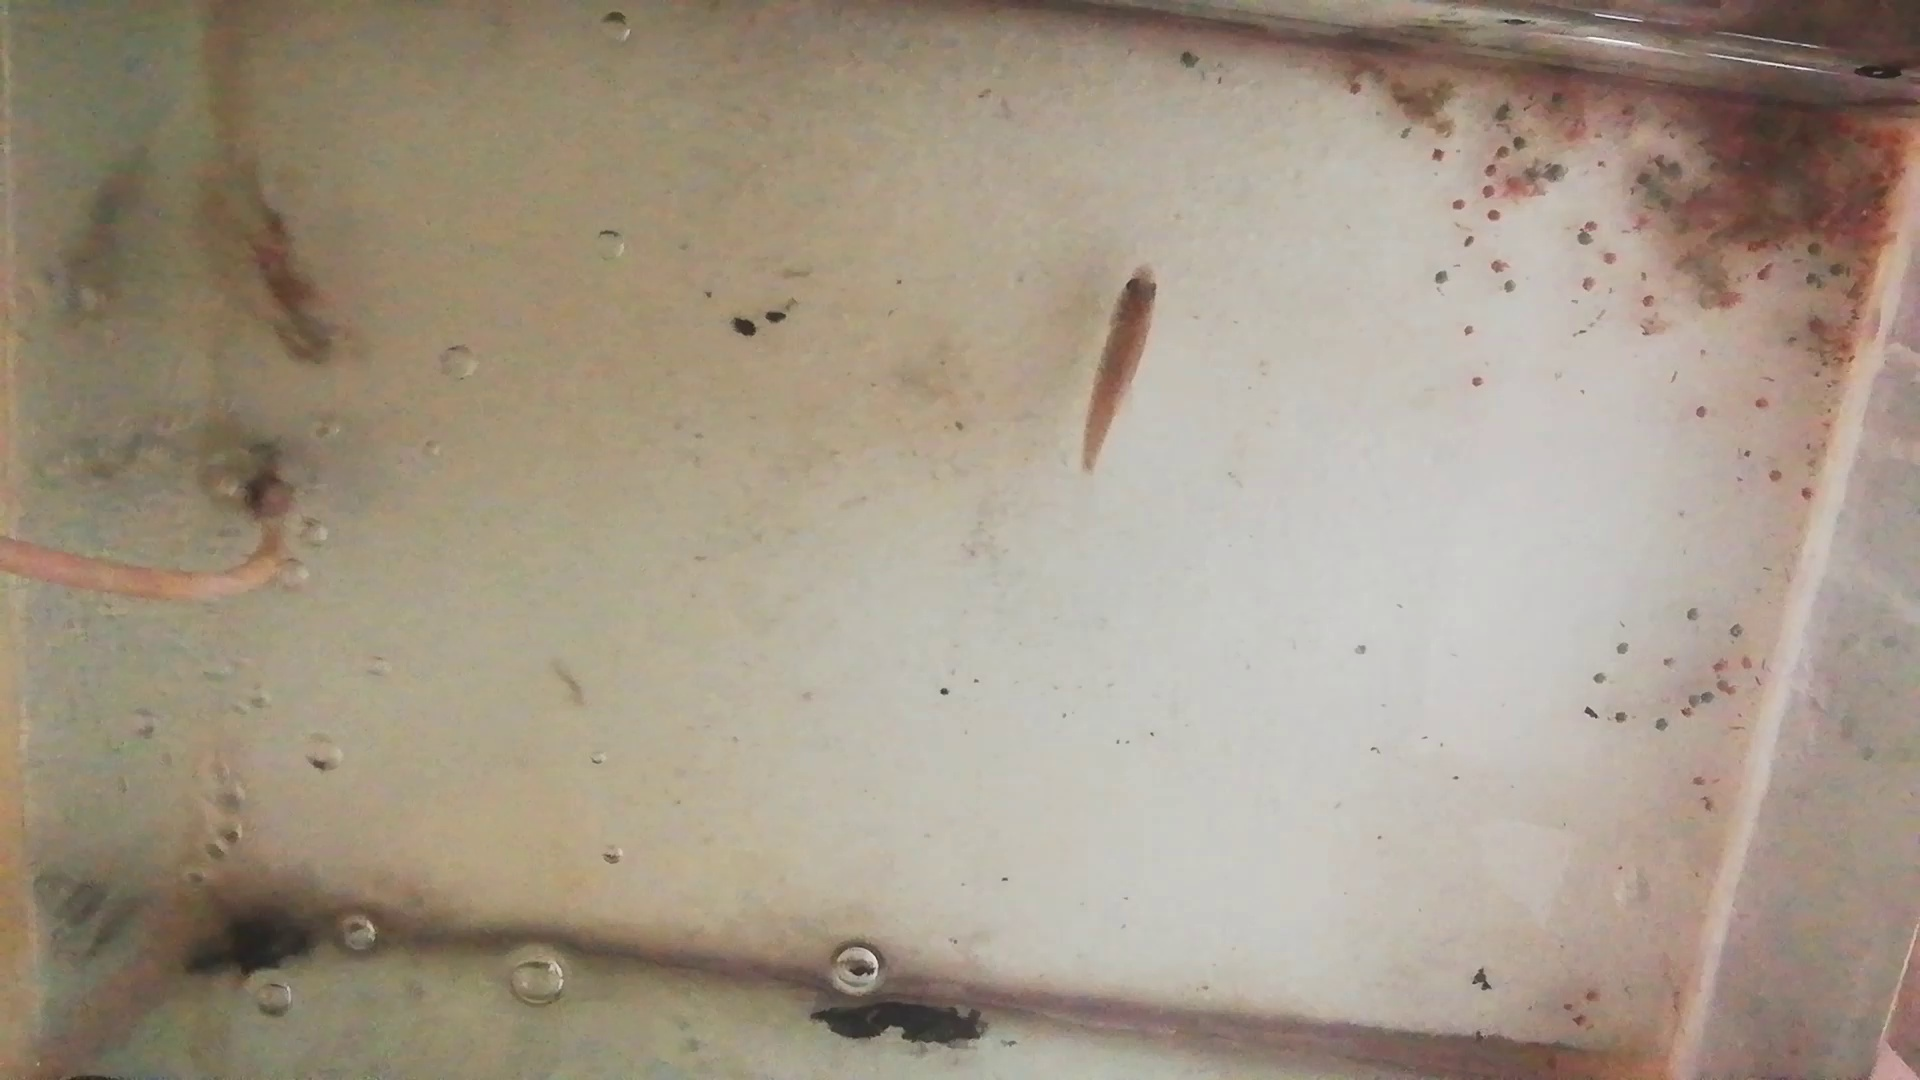fish: (227, 185, 338, 372), (1077, 262, 1163, 477)
